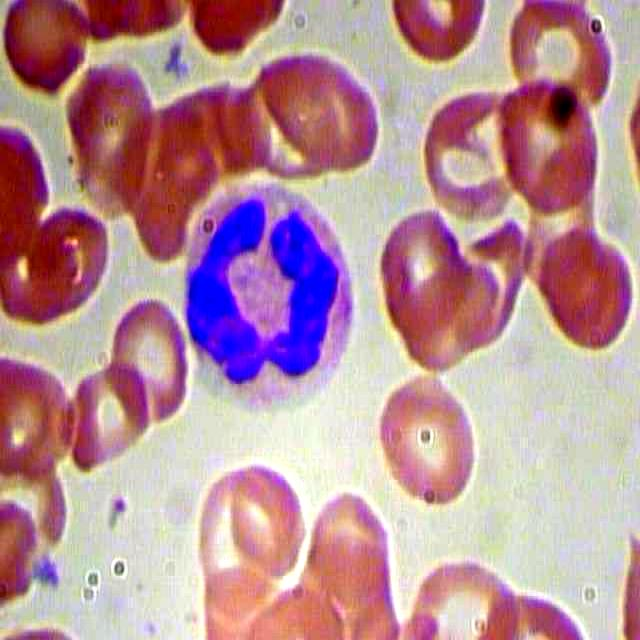Platelets: (29, 552, 72, 599)
RBC: (256, 37, 380, 183), (371, 371, 481, 506), (63, 58, 155, 206), (418, 86, 517, 222), (497, 81, 599, 212), (538, 223, 636, 349), (105, 295, 191, 429), (377, 204, 466, 325), (307, 484, 396, 605), (66, 355, 152, 476), (225, 465, 310, 579), (31, 203, 114, 313), (1, 1, 92, 96)
WBC: (178, 173, 360, 415)
